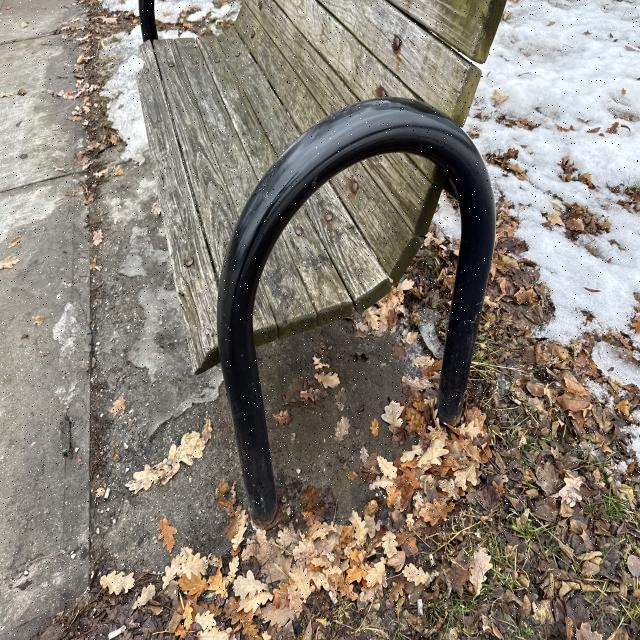Bench: (138, 0, 509, 498)
